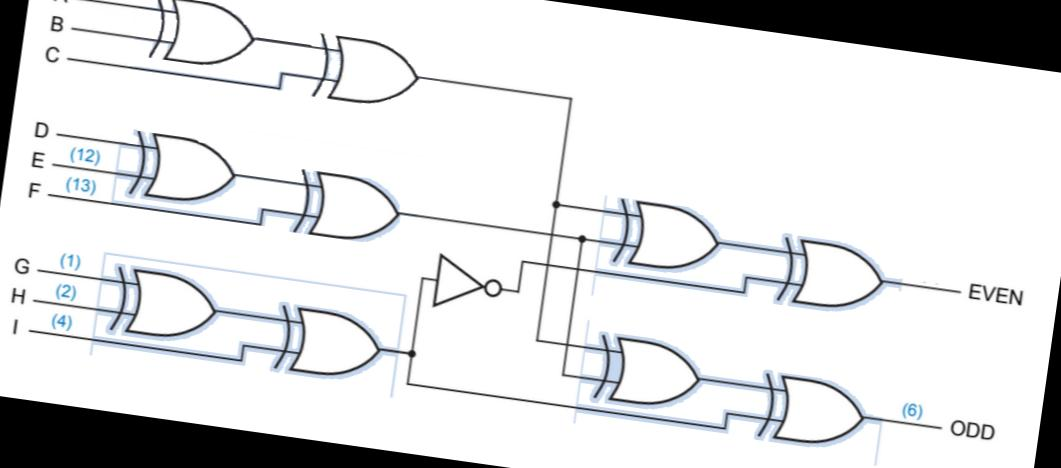not: (423, 243, 508, 322)
xor: (747, 363, 878, 460), (263, 294, 394, 390), (583, 324, 713, 419), (765, 228, 896, 322), (98, 258, 228, 351), (283, 160, 411, 254), (304, 22, 425, 118), (118, 124, 247, 214), (602, 192, 729, 282), (143, 0, 273, 80)
